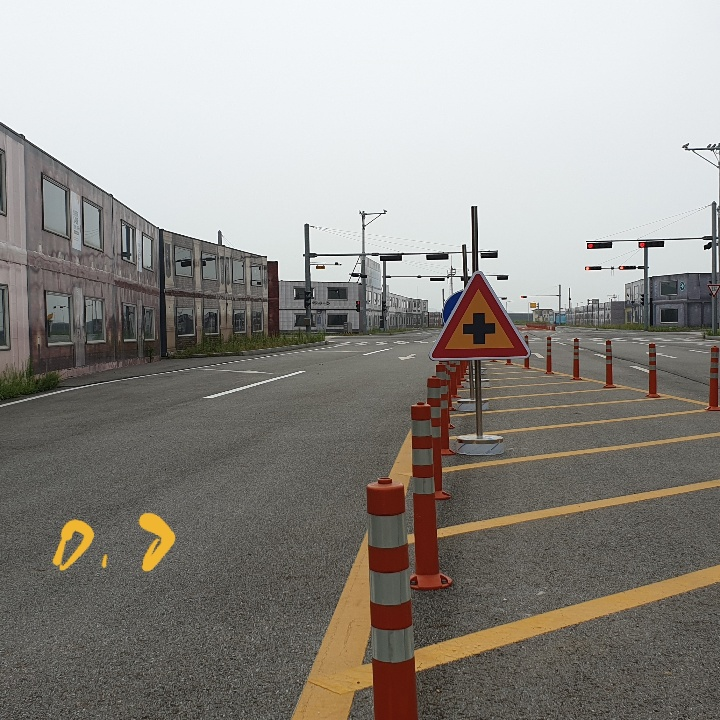inter: (459, 309, 498, 351)
